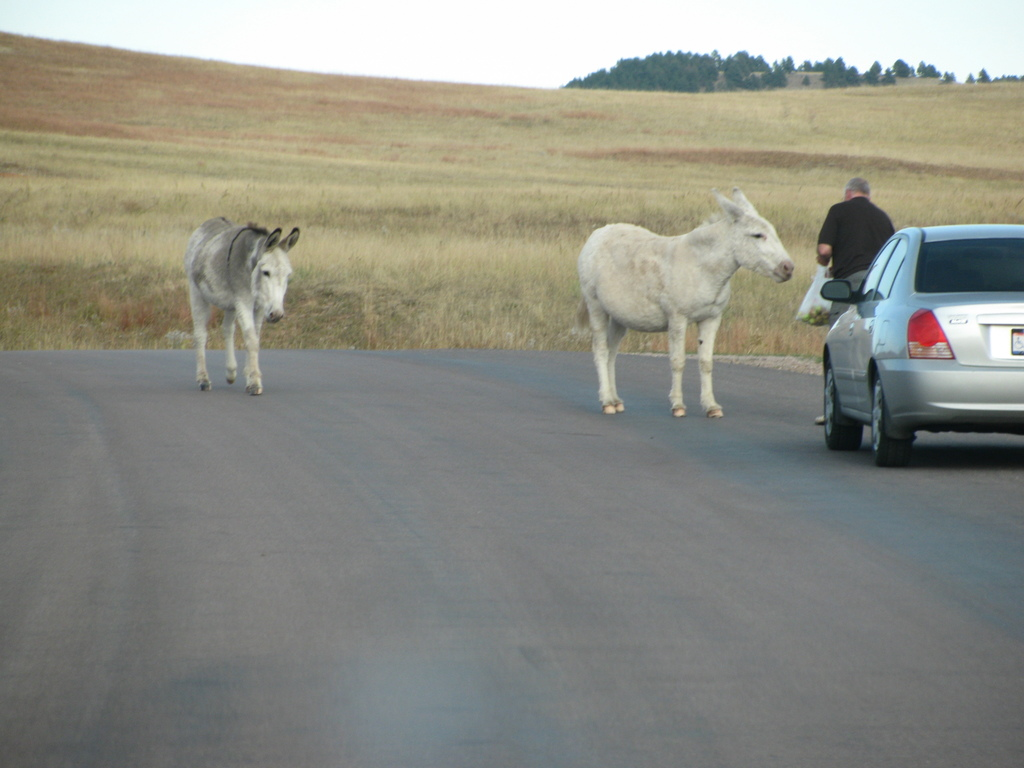Car: (814, 209, 1013, 454)
